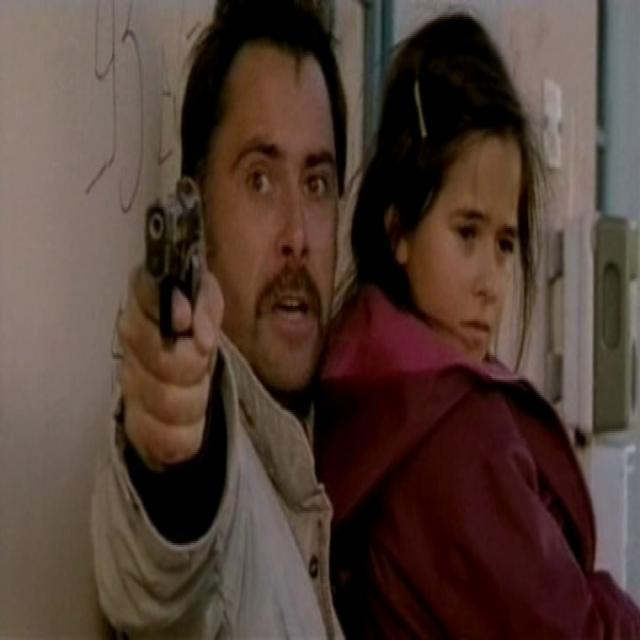weapons: (128, 136, 219, 405)
